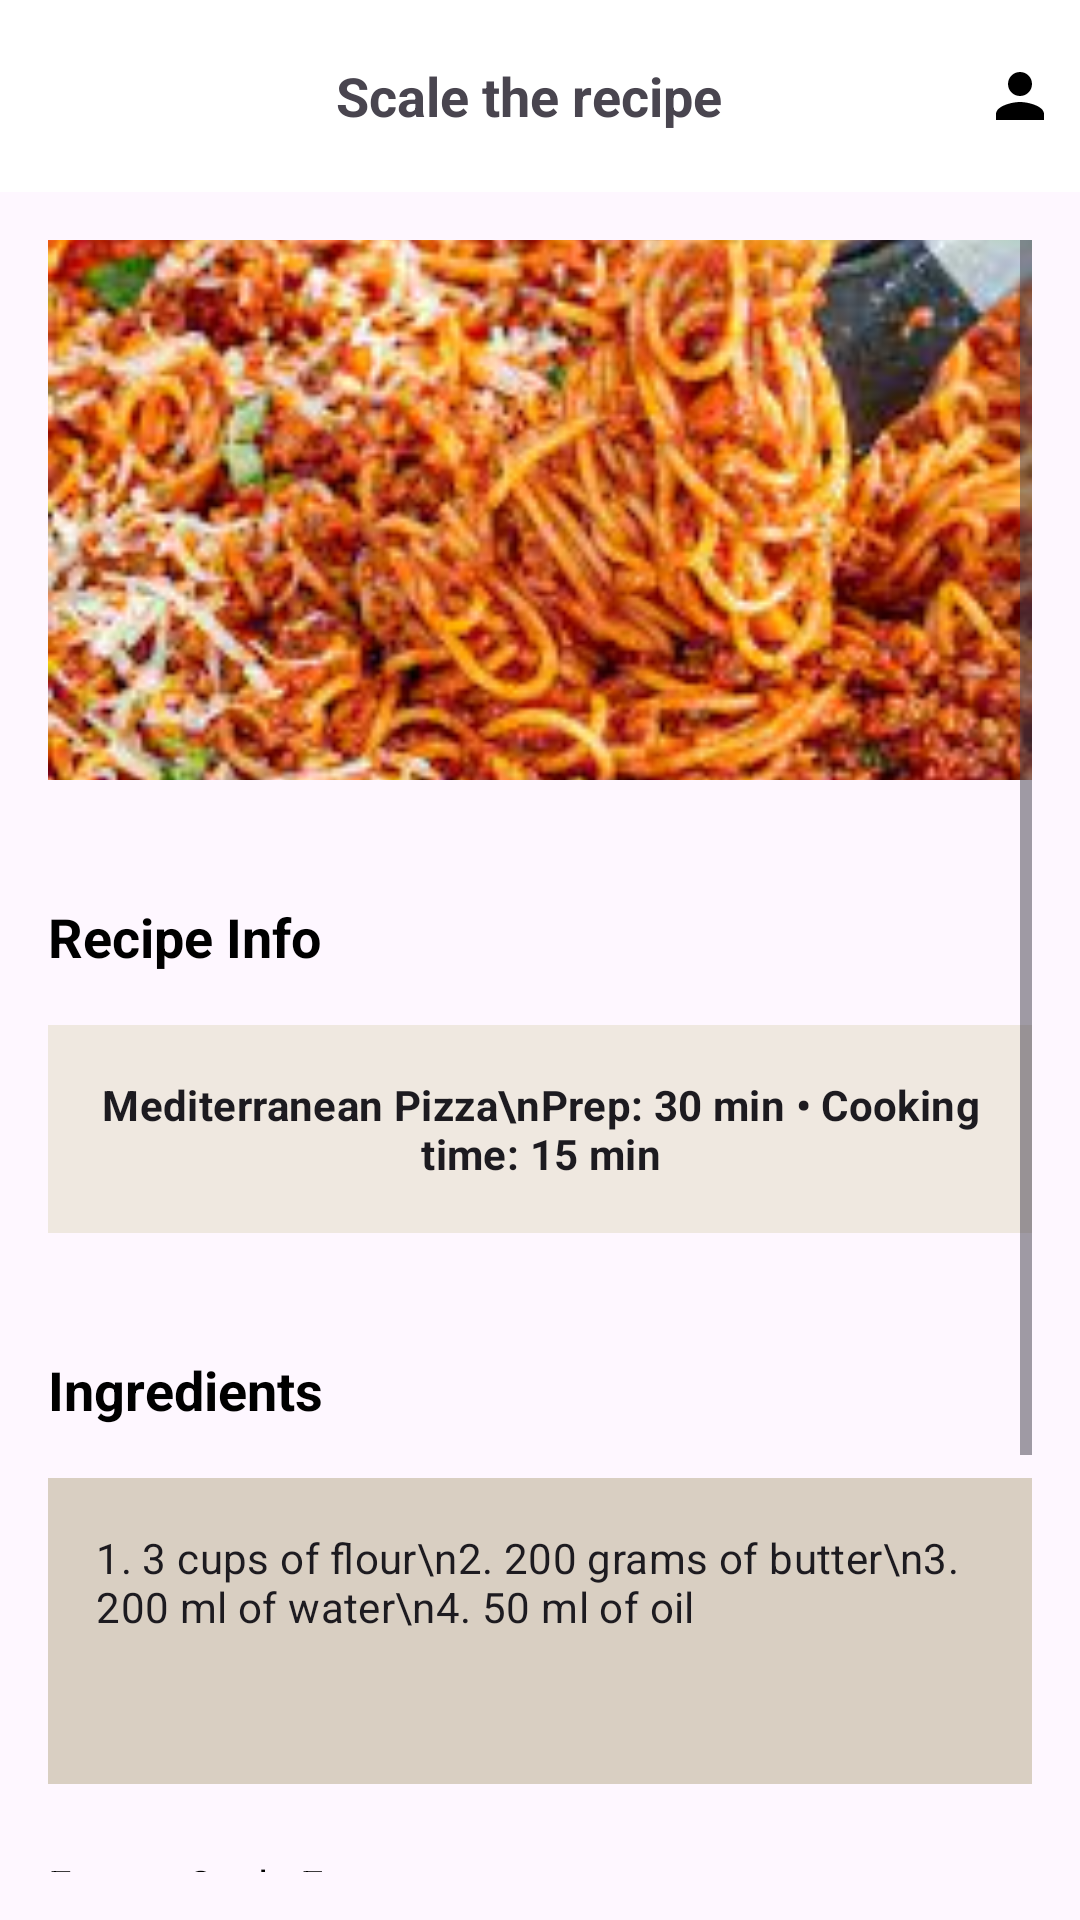

Icon click points for this 1080w x 1920h phone screenshot, format [x,y]:
Profile: [1020,96]
